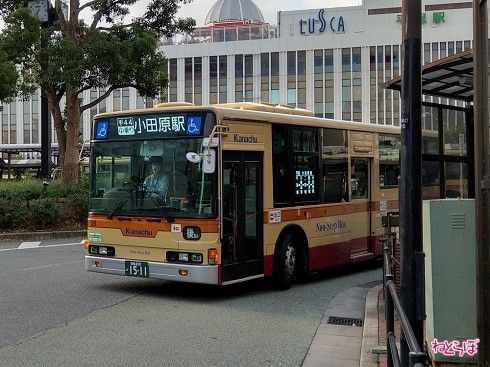destination: (108, 113, 185, 138)
